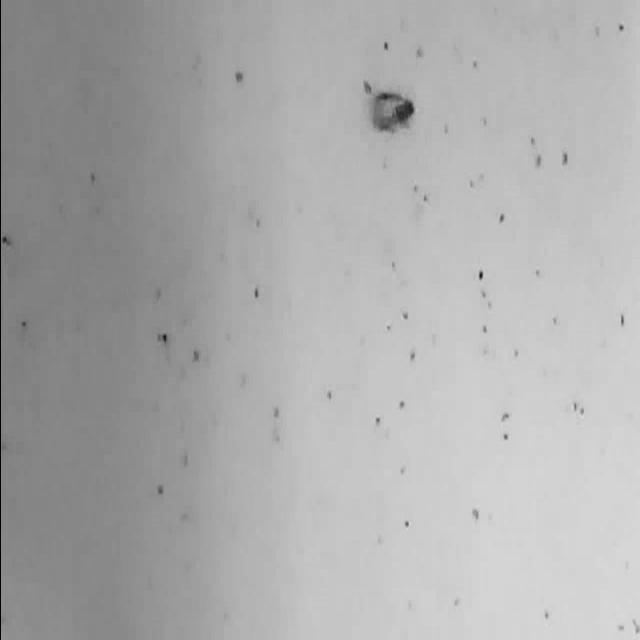larvas: (369, 90, 416, 134)
